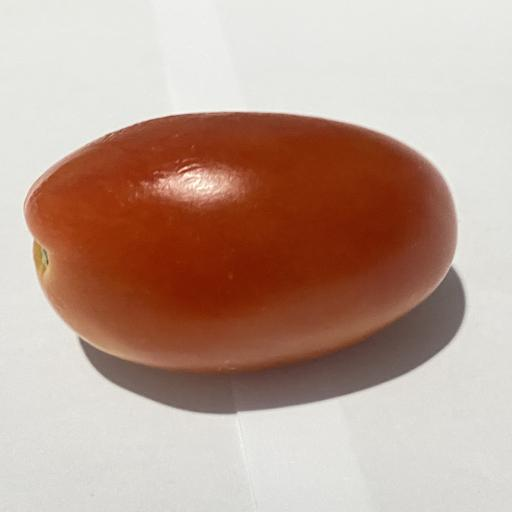overipe: (24, 112, 456, 372)
